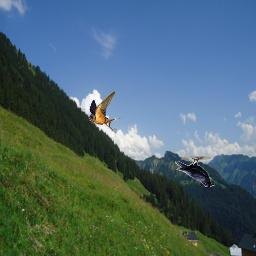Crow: (175, 156, 215, 187)
Swallow: (89, 91, 123, 131)
